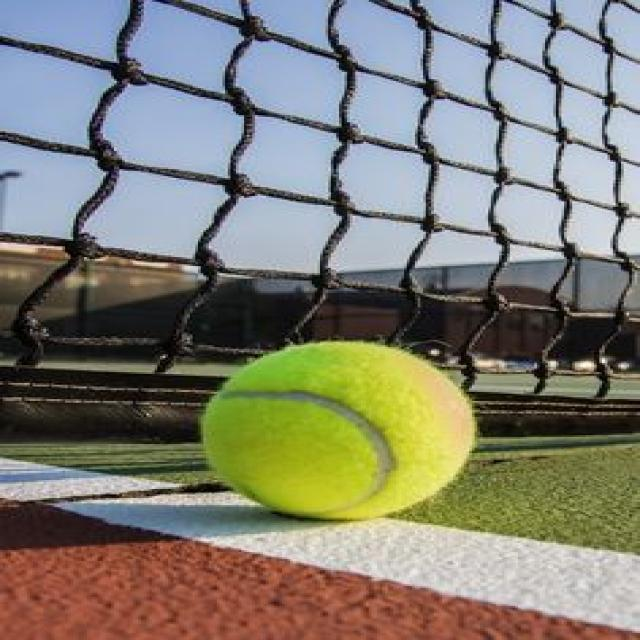tennis: (192, 335, 484, 523)
